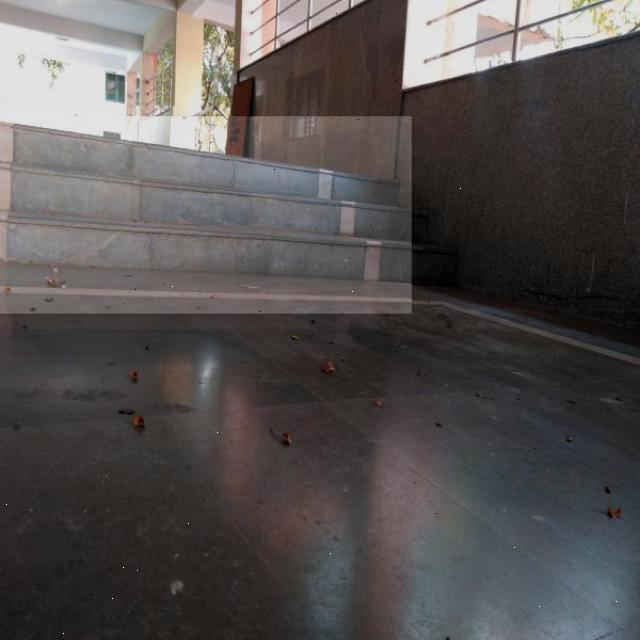stair: (0, 117, 414, 316)
